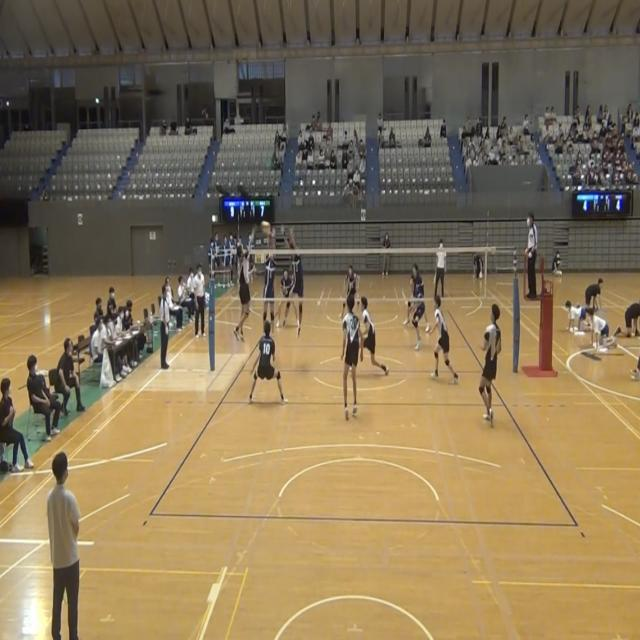spike: (233, 230, 255, 348)
